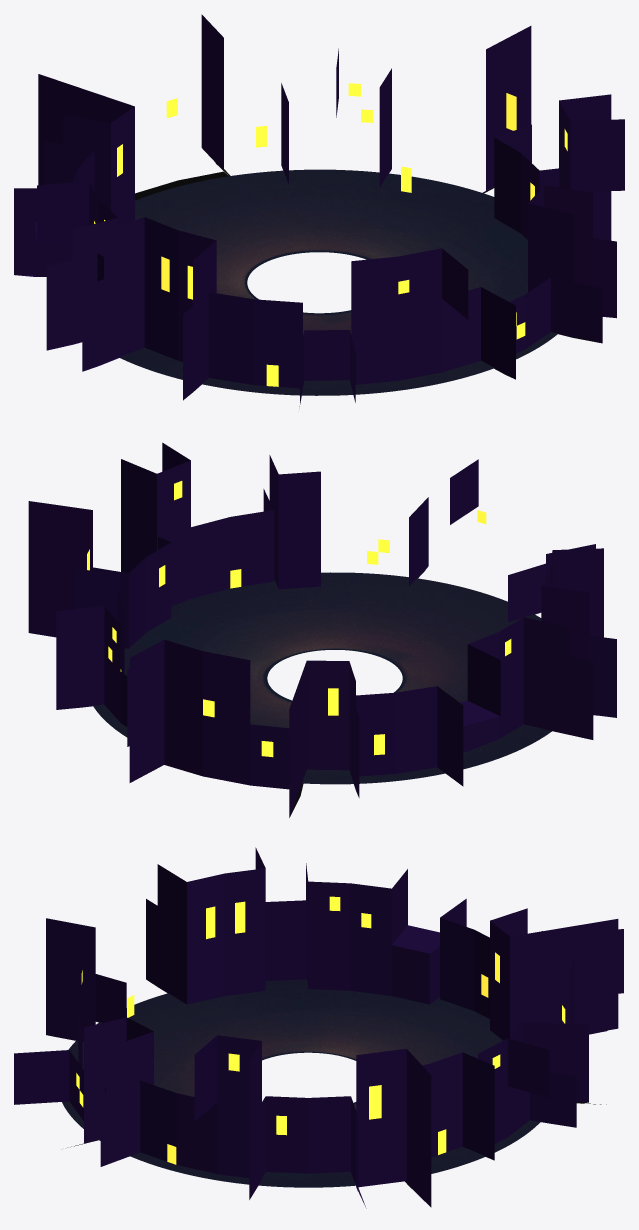
The model's file is background.glb.
3 views of the same model, one above another, from view 1: azimuth 30°, elevation 25°; view 2: azimuth 150°, elevation 25°; view 3: azimuth 270°, elevation 25° (orthographic). The views are drawn at different scales.
Visible parts, largest first — view 1: BG, Ground base 1.002; view 2: BG, Ground base 1.002; view 3: BG, Ground base 1.002.
Boxes of the visible parts, x1=… form: BG: x1=14, y1=14, x2=624, y2=406; Ground base 1.002: x1=119, y1=169, x2=557, y2=395; BG: x1=28, y1=442, x2=616, y2=817; Ground base 1.002: x1=93, y1=572, x2=551, y2=784; BG: x1=14, y1=847, x2=623, y2=1208; Ground base 1.002: x1=62, y1=979, x2=540, y2=1187.
Bounding box in the file's own units: 36.97 × 9.26 × 36.62.
Materials: 4 (1 with a texture image).
